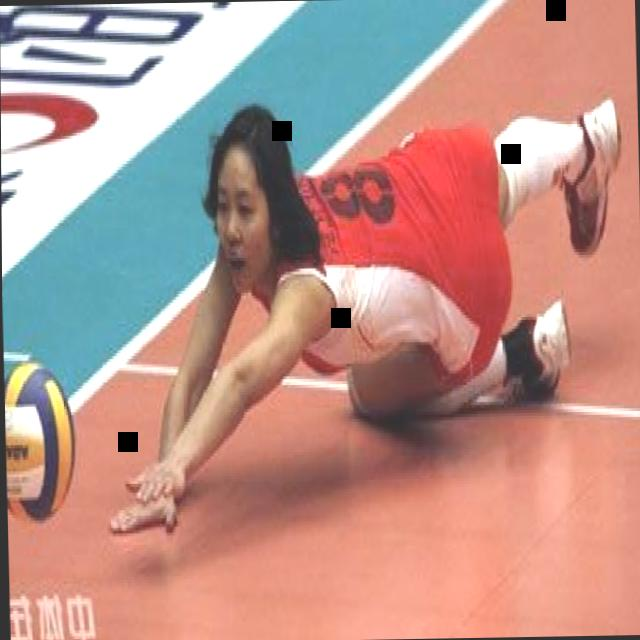Fall-Detected: (122, 53, 612, 550)
